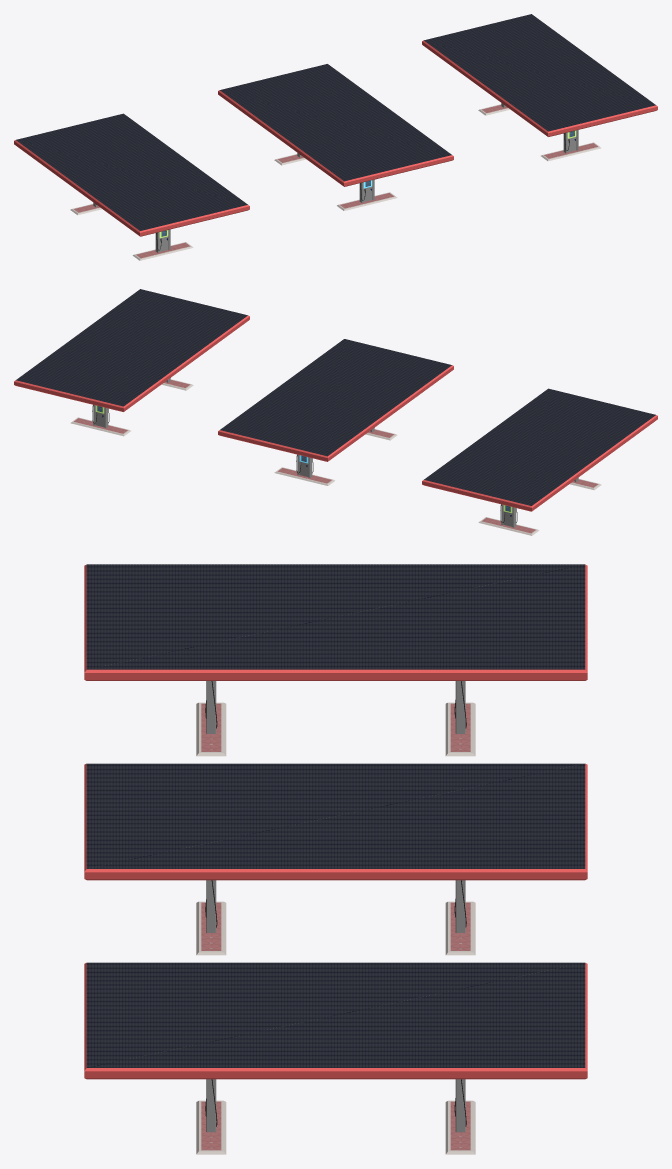
File: pierchargingstationvertical.glb
The picture shows the model from 3 angles, top to bottom: view 1: azimuth 30°, elevation 25°; view 2: azimuth 150°, elevation 25°; view 3: azimuth 270°, elevation 25°; orthographic projection. The views are drawn at different scales.
Parts seen in each view (by area): view 1: cityblockassetkit; view 2: cityblockassetkit; view 3: cityblockassetkit.
Boxes of the visible parts, left/top/right/bottom form: cityblockassetkit: left=14, top=14, right=657, bottom=260; cityblockassetkit: left=14, top=289, right=657, bottom=535; cityblockassetkit: left=84, top=564, right=587, bottom=1154.
Bounding box in the file's own units: 48 × 5 × 20.2.
Materials: 12 (7 with a texture image).
